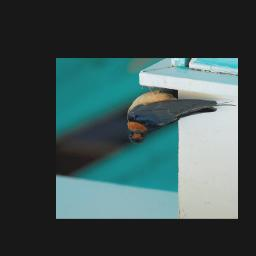Swallow: (124, 87, 236, 147)
